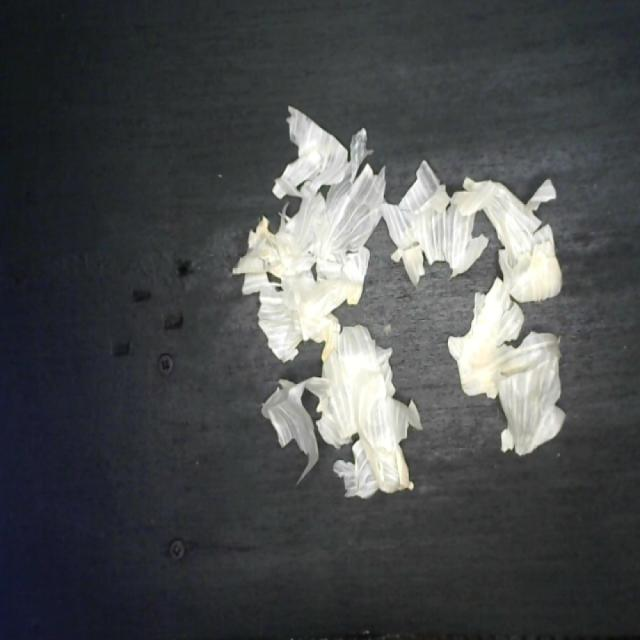biodegradable: (224, 89, 574, 494)
